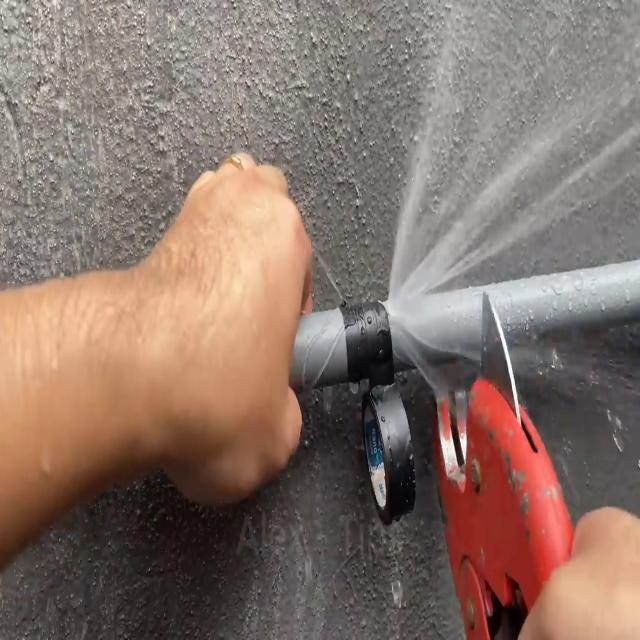leak: (387, 0, 640, 405)
